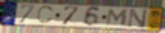6: (82, 6, 102, 28)
7: (19, 3, 37, 24), (62, 6, 80, 26)
C: (36, 5, 56, 25)
M: (104, 8, 130, 27)
N: (126, 8, 148, 29)
